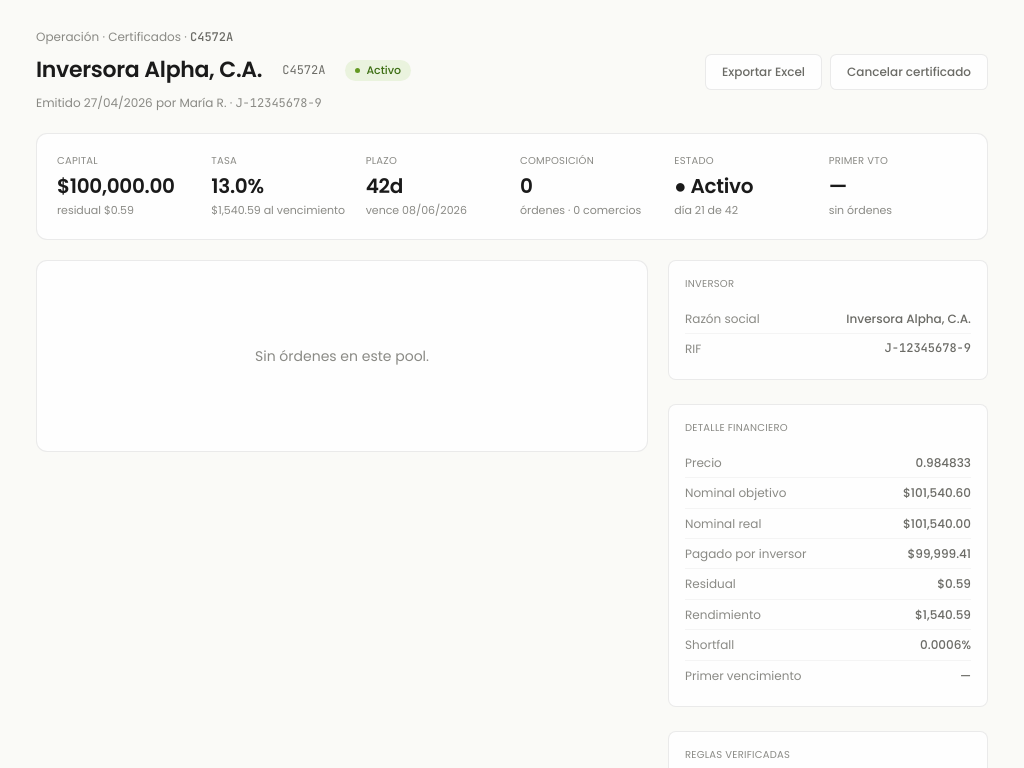
Test case: <CertificateDetailPage /> › opens cancel modal on header button click
Step 1. Click the button "Cancelar certificado" → (909, 72), box [830, 54, 988, 90]
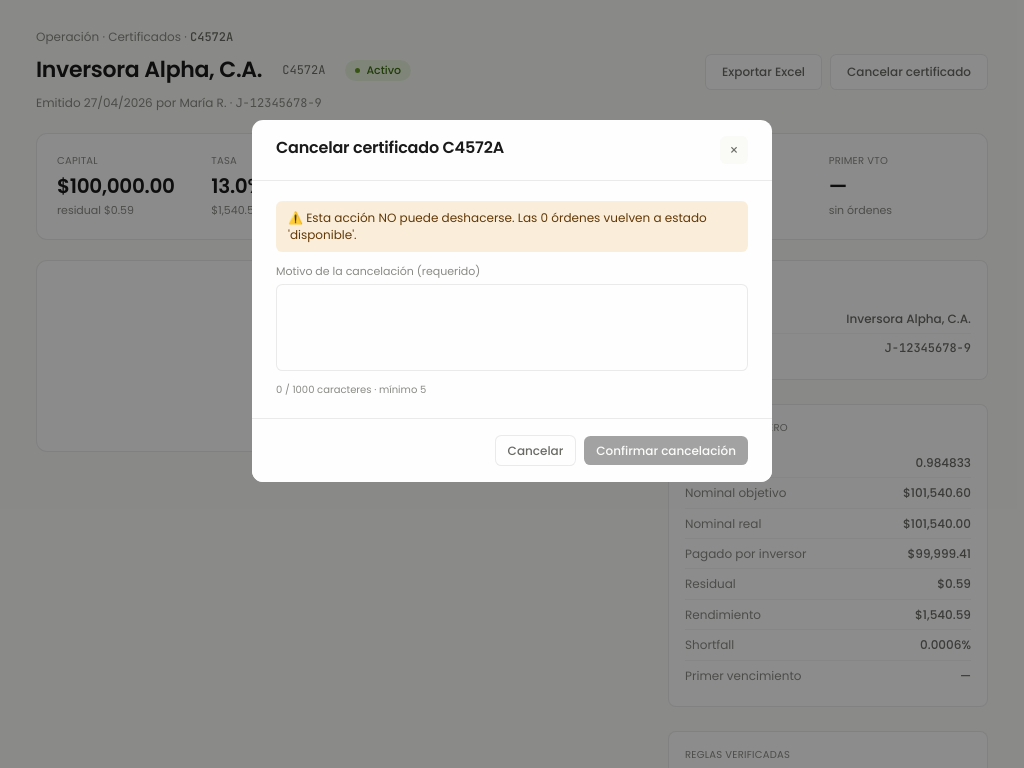
Check: the heading "Cancelar certificado C4572A" is shown, box [276, 136, 504, 159]
